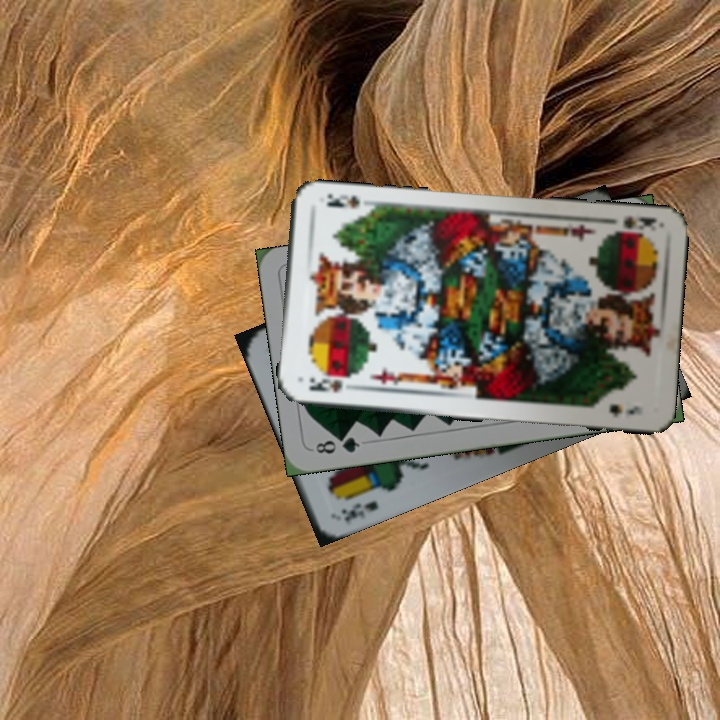EK: (337, 496, 381, 526)
G8: (311, 432, 363, 457)
SK: (305, 373, 346, 395), (619, 212, 660, 233)
